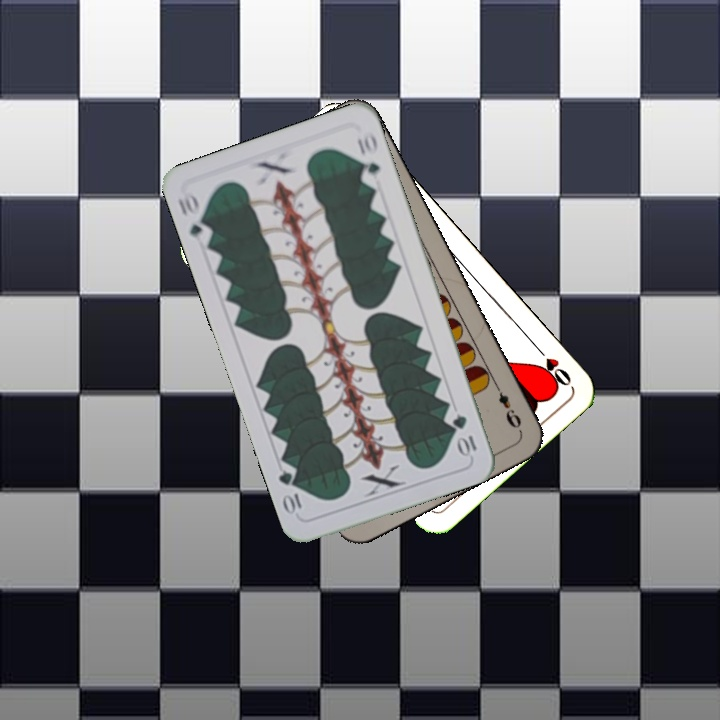E9: (490, 379, 524, 434)
G10: (173, 187, 215, 245), (448, 410, 480, 459)
HO: (530, 340, 574, 391)
